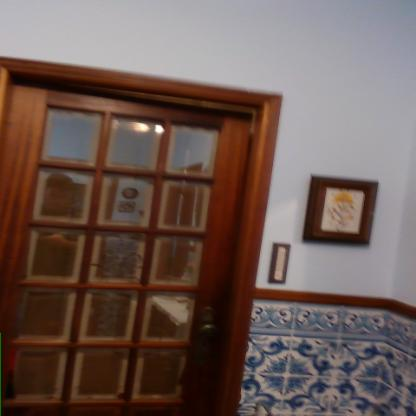closed: (0, 50, 294, 416)
